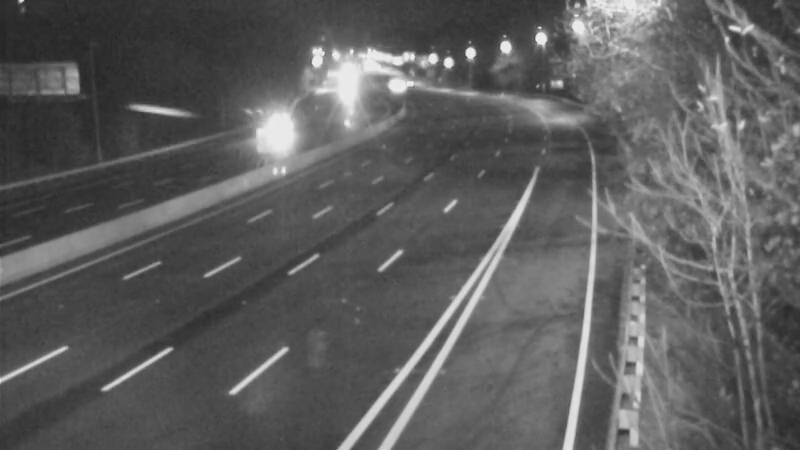vehicle: (371, 61, 421, 111), (256, 108, 306, 158)
